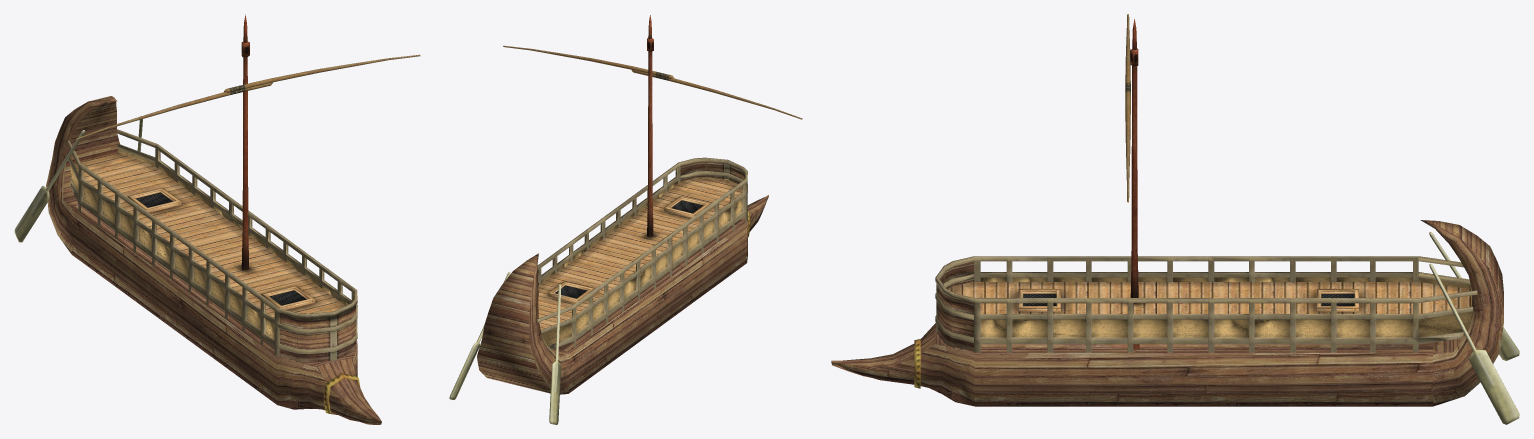
Rendered from ship-merchant-53.glb.
3 renders of one model, left to right at view 1: azimuth 30°, elevation 25°; view 2: azimuth 150°, elevation 25°; view 3: azimuth 270°, elevation 25°, orthographic. The views are drawn at different scales.
Parts seen in each view (by area): view 1: Merchant timber hull; view 2: Merchant timber hull; view 3: Merchant timber hull.
Part boxes in pixels (<box>): Merchant timber hull: <box>14,14,420,424</box>; Merchant timber hull: <box>449,15,802,424</box>; Merchant timber hull: <box>831,14,1519,424</box>.
Bounding box in the file's own units: 20.6 × 19.27 × 32.07.
1 material, 1 textured.
